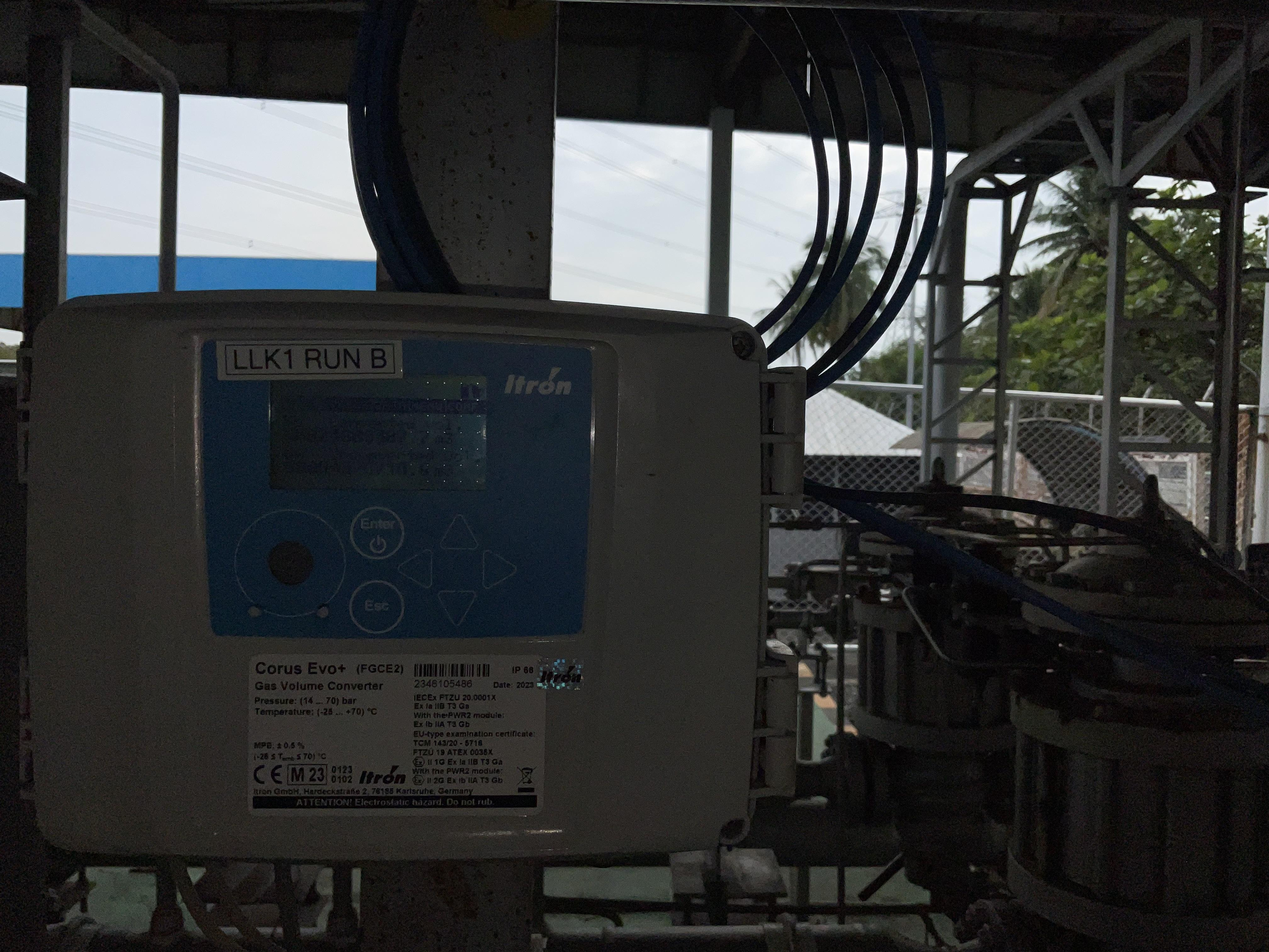digital_screen: (268, 374, 488, 490)
